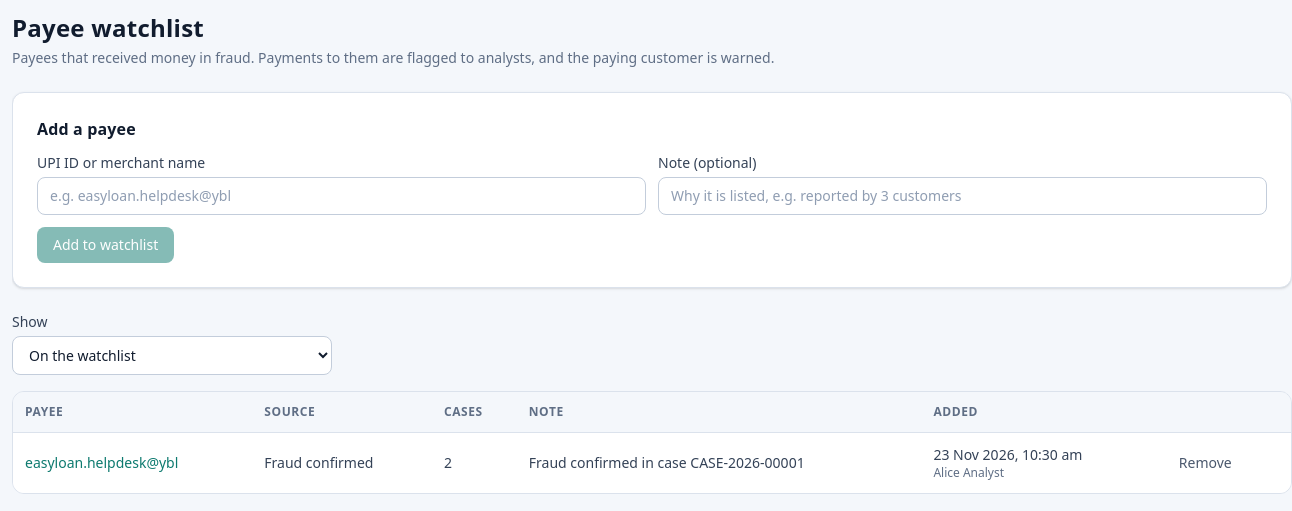
PayeeWatchlist › the filter asks the server for removed entries; the Status column appears only there
Expected: the link "easyloan.helpdesk@ybl" is shown, [25,453,178,472]
Expected: the column heading "Status" is not shown
Select "Removed" in the dropdown labelled "Show": (172, 356) [12,336,332,375]
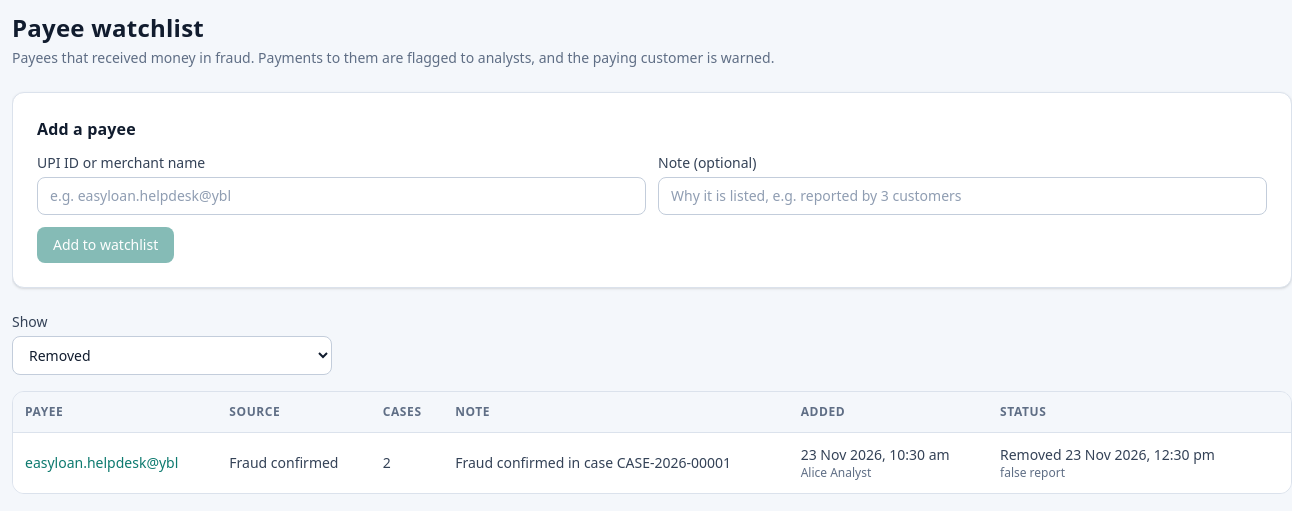
Now the column heading "Status" is shown, box [988,392,1263,432]
Now the text "false report" is shown, box [1000,464,1065,481]
